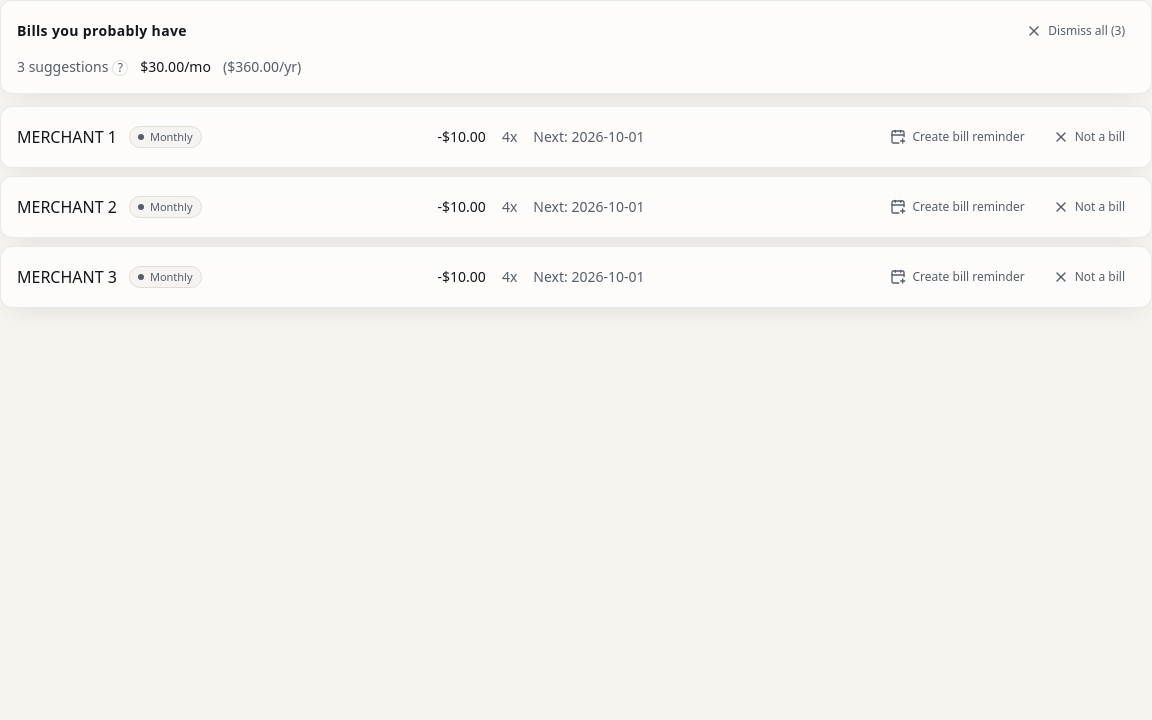
Test: dismissal (M133 D-3 — one vocabulary, deferred write) › persists every key exactly once when the window closes
The image size is (1152, 720).
Expected: the number of buttons "Not a bill" is 3, x1=1043 y1=123 x2=1135 y2=151; x1=1043 y1=193 x2=1135 y2=221; x1=1043 y1=263 x2=1135 y2=291
Click the button with aria-label "Dismiss all 3 suggestions": {"x": 1076, "y": 31} x1=1016 y1=17 x2=1135 y2=45
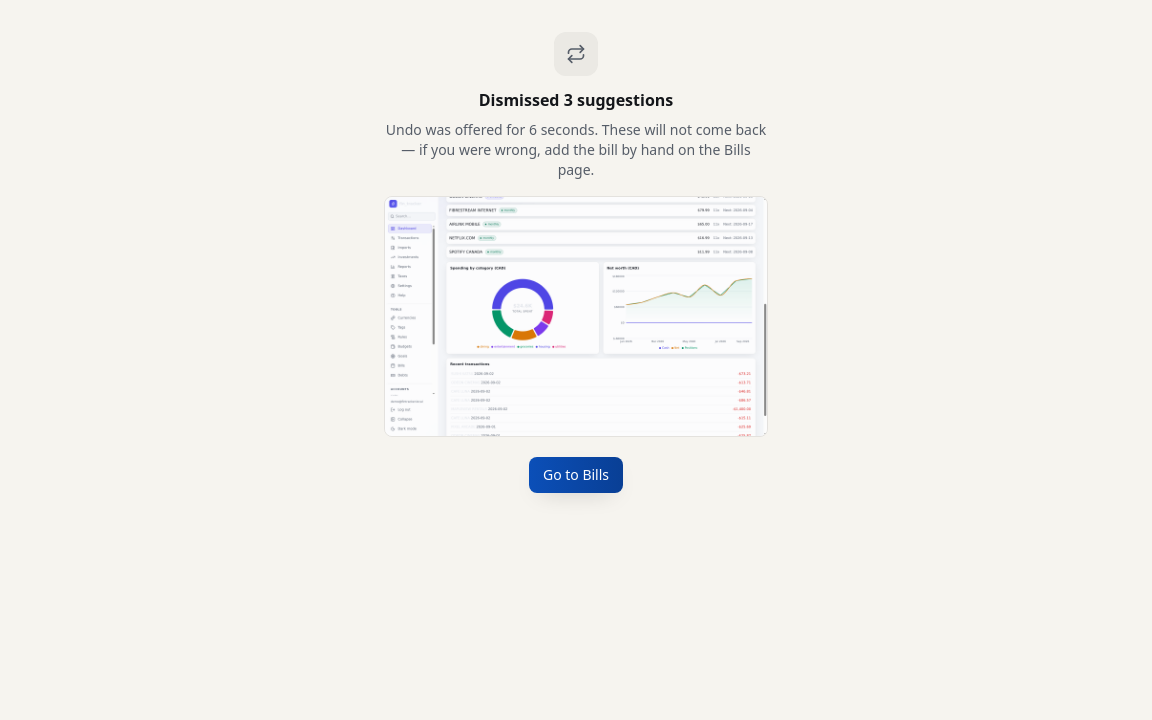
Expected: the text "MERCHANT 1" is gone
Expected: the text "Dismissed 3 suggestions" is shown, x1=479 y1=88 x2=673 y2=112
